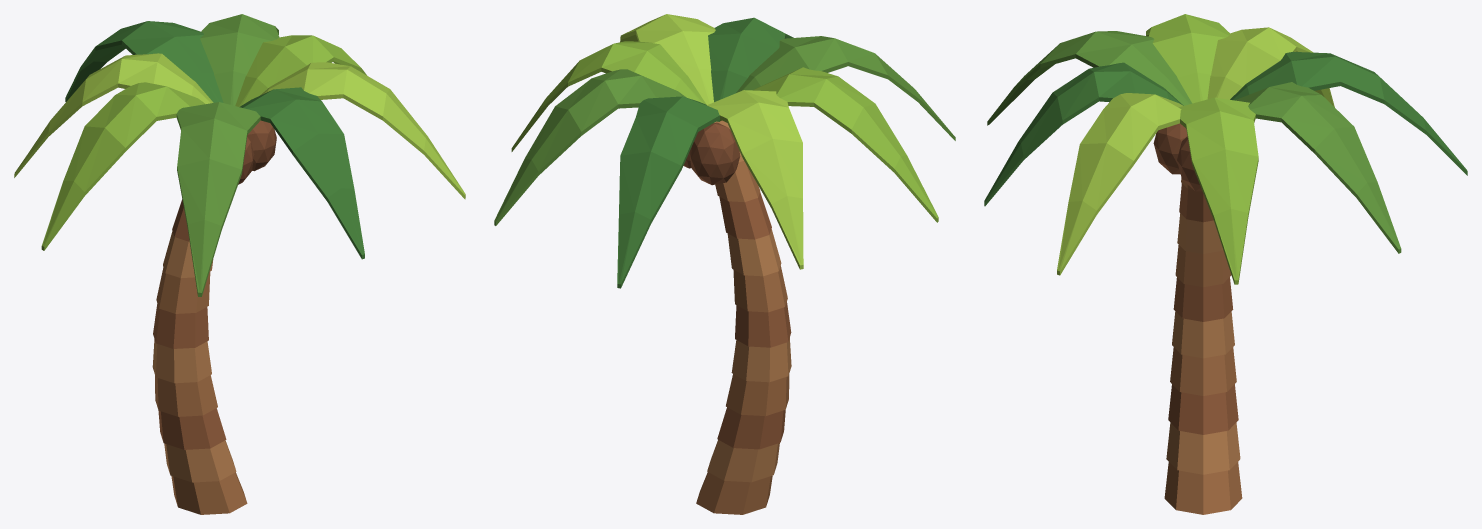
File: palm.glb
3 views of the same model, side by side, from view 1: azimuth 30°, elevation 25°; view 2: azimuth 150°, elevation 25°; view 3: azimuth 270°, elevation 25° (orthographic). The views are drawn at different scales.
Visible parts, largest first — view 1: Frond 06, Frond 07, Frond 05, Frond 08, Frond 03, Frond 04, Frond 02, Frond 01, Trunk segment 01, Trunk segment 02, Trunk segment 03, Trunk segment 04 (+5 smaller); view 2: Frond 03, Frond 04, Frond 02, Frond 05, Frond 06, Frond 01, Frond 07, Frond 08, Coconut 2, Trunk segment 01, Trunk segment 02, Trunk segment 03 (+7 smaller); view 3: Frond 01, Frond 08, Frond 02, Frond 07, Frond 03, Frond 06, Frond 04, Frond 05, Trunk segment 01, Trunk segment 02, Trunk segment 03, Trunk segment 04 (+7 smaller).
Boxes of the visible parts, x1=… form: Frond 06: x1=176, y1=102, x2=260, y2=296; Frond 07: x1=239, y1=87, x2=364, y2=259; Frond 05: x1=41, y1=82, x2=205, y2=250; Frond 08: x1=260, y1=62, x2=465, y2=199; Frond 03: x1=65, y1=21, x2=223, y2=102; Frond 04: x1=14, y1=53, x2=213, y2=177; Frond 02: x1=200, y1=14, x2=279, y2=105; Frond 01: x1=235, y1=35, x2=366, y2=106; Trunk segment 01: x1=171, y1=472, x2=247, y2=514; Trunk segment 02: x1=164, y1=440, x2=236, y2=482; Trunk segment 03: x1=158, y1=408, x2=226, y2=449; Trunk segment 04: x1=155, y1=375, x2=217, y2=416; Frond 03: x1=617, y1=96, x2=719, y2=288; Frond 04: x1=707, y1=90, x2=803, y2=269; Frond 02: x1=494, y1=69, x2=686, y2=225; Frond 05: x1=720, y1=67, x2=938, y2=222; Frond 06: x1=736, y1=36, x2=955, y2=140; Frond 01: x1=511, y1=41, x2=706, y2=151; Frond 07: x1=708, y1=17, x2=793, y2=101; Frond 08: x1=620, y1=14, x2=715, y2=104; Coconut 2: x1=689, y1=122, x2=740, y2=185; Trunk segment 01: x1=696, y1=472, x2=772, y2=514; Trunk segment 02: x1=707, y1=440, x2=779, y2=482; Trunk segment 03: x1=717, y1=407, x2=785, y2=449; Frond 01: x1=1179, y1=97, x2=1258, y2=284; Frond 08: x1=1057, y1=93, x2=1183, y2=275; Frond 02: x1=1235, y1=82, x2=1401, y2=253; Frond 07: x1=984, y1=62, x2=1183, y2=206; Frond 03: x1=1230, y1=52, x2=1467, y2=175; Frond 06: x1=987, y1=31, x2=1192, y2=125; Frond 04: x1=1207, y1=27, x2=1334, y2=107; Frond 05: x1=1146, y1=14, x2=1229, y2=103; Trunk segment 01: x1=1164, y1=462, x2=1242, y2=514; Trunk segment 02: x1=1166, y1=422, x2=1240, y2=474; Trunk segment 03: x1=1168, y1=384, x2=1238, y2=434; Trunk segment 04: x1=1170, y1=347, x2=1236, y2=395.
Size of the model in its own units: 3.44 by 3.64 by 3.6.
